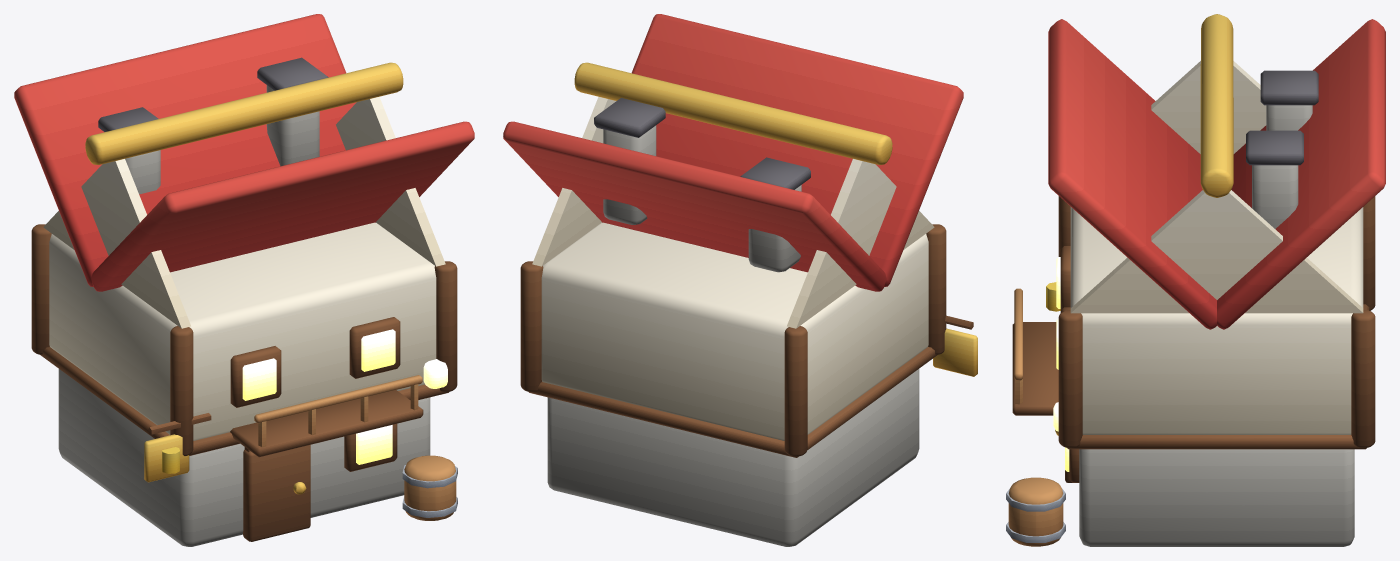
Rendered from tavernR.glb.
3 renders of one model, left to right at view 1: azimuth 30°, elevation 25°; view 2: azimuth 150°, elevation 25°; view 3: azimuth 270°, elevation 25°, orthographic. The views are drawn at different scales.
Visible parts, largest first — view 1: tavernR; view 2: tavernR; view 3: tavernR.
Part boxes in pixels (<box>): tavernR: <box>14,14,474,546</box>; tavernR: <box>503,14,977,546</box>; tavernR: <box>1006,14,1385,546</box>.
Size of the model in its own units: 1.37 by 1.51 by 1.31.
1 material, 1 textured.
